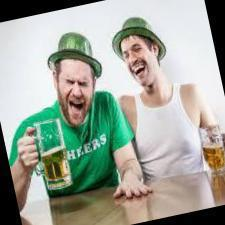Drunk: (58, 59, 93, 122), (120, 41, 153, 85)
